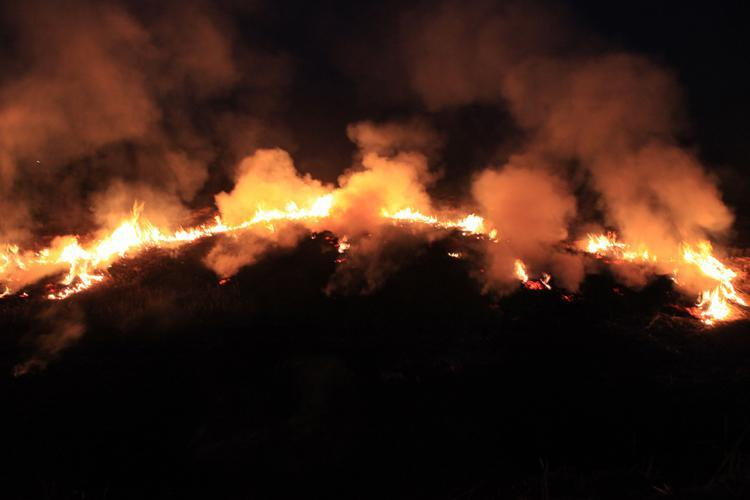fire: (177, 189, 499, 245), (588, 226, 745, 327), (6, 214, 171, 298), (504, 256, 558, 291)
